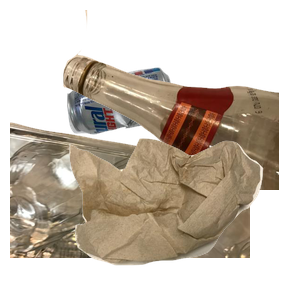glass: (60, 10, 300, 190)
metal: (65, 65, 231, 192)
plastic: (10, 120, 250, 300)
trash: (67, 136, 300, 300)
